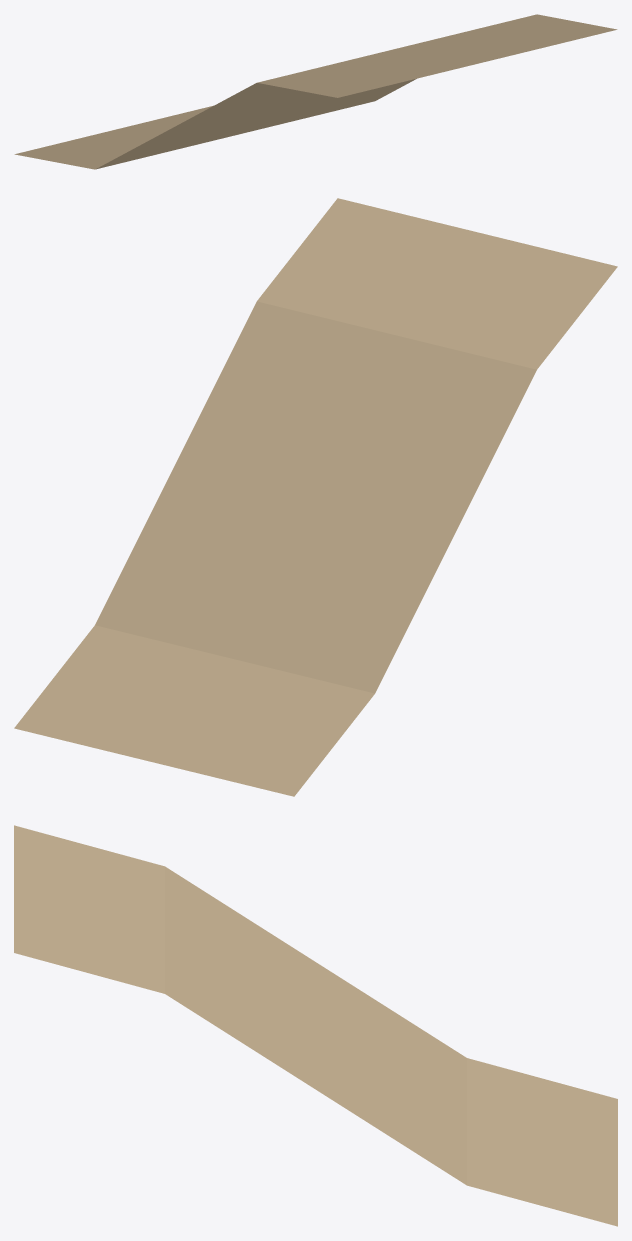
Rendered from Hilly_Terrain_Path_Hill_Sharp_Plain_Center.fbx.
3 renders of one model, top to bottom at view 1: azimuth 30°, elevation 25°; view 2: azimuth 150°, elevation 25°; view 3: azimuth 270°, elevation 25°, orthographic. The views are drawn at different scales.
Visible parts, largest first — view 1: object1; view 2: object1; view 3: object1.
Part boxes in pixels (x1,y1,x2,y2): object1: [14, 14, 617, 169]; object1: [14, 198, 617, 796]; object1: [14, 825, 617, 1226].
Bounding box in the file's own units: 1 × 1 × 2.
